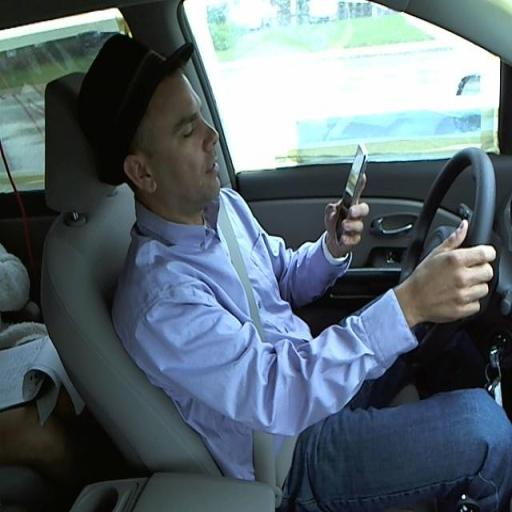texting_phone: (103, 54, 496, 431)
